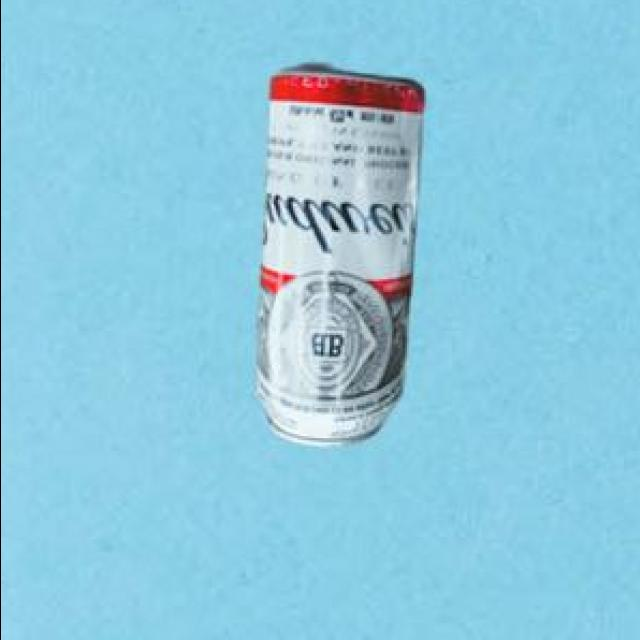logam: (259, 68, 426, 448)
